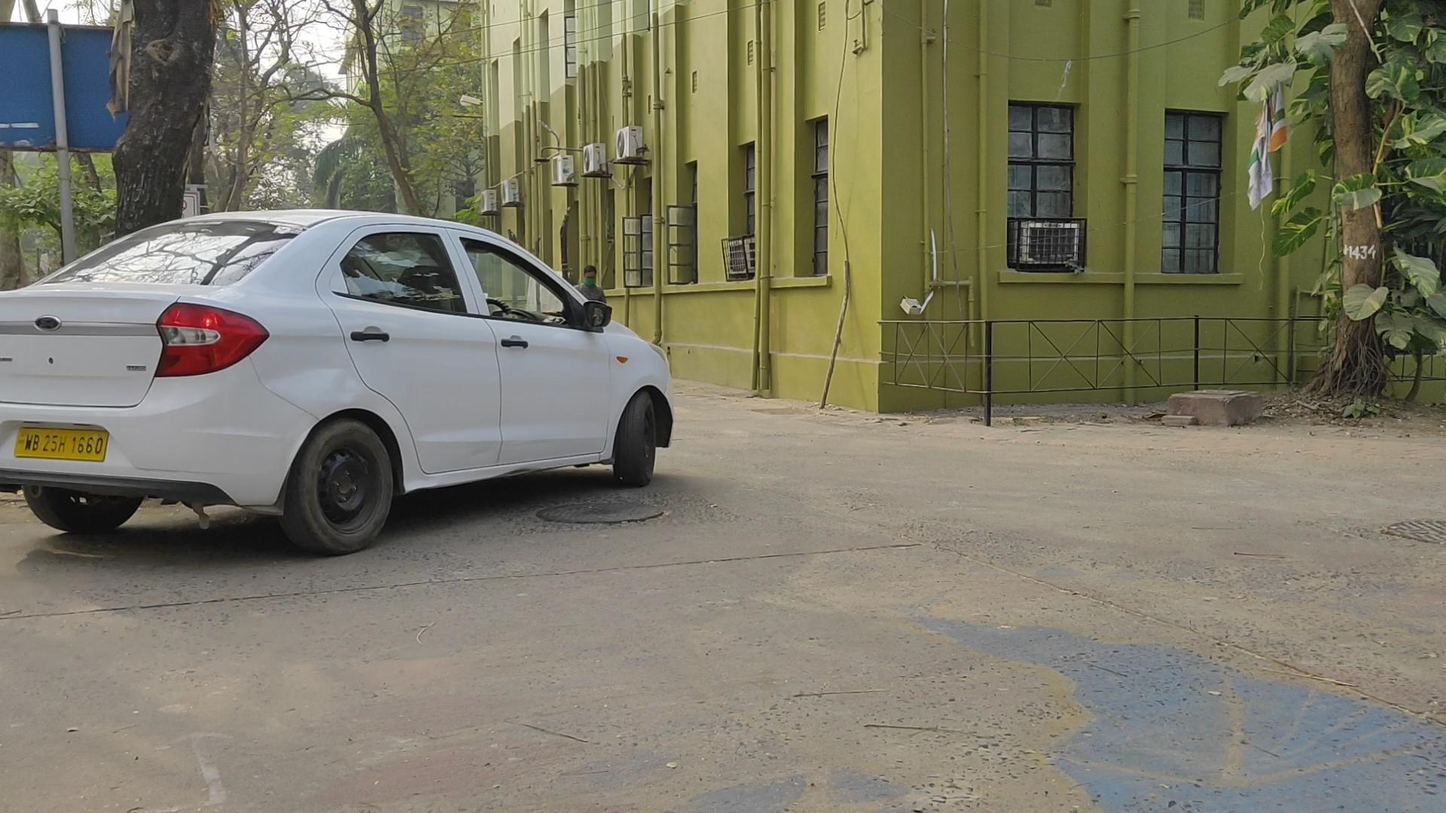car: (2, 206, 673, 553)
